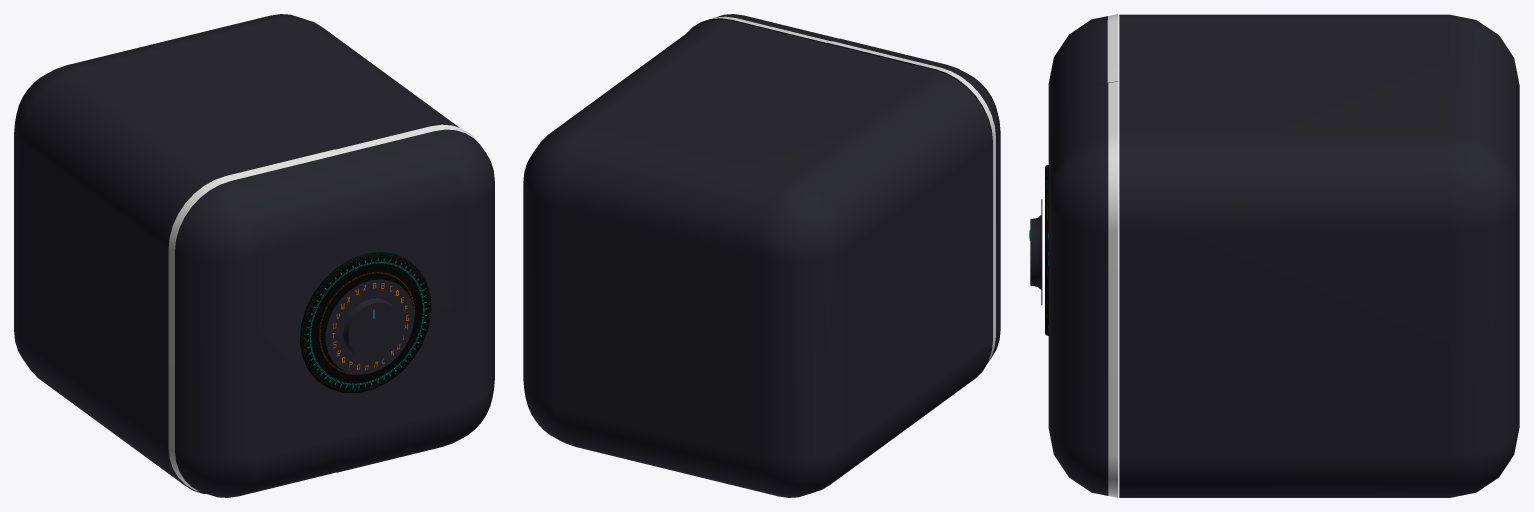
File: SAFE 1.fbx
The picture shows the model from 3 angles, left to right: view 1: azimuth 30°, elevation 25°; view 2: azimuth 150°, elevation 25°; view 3: azimuth 270°, elevation 25°; orthographic projection. The views are drawn at different scales.
Parts seen in each view (by area): view 1: the_safe, door1, door2, door3, pCylinder1, letters, moving_circule; view 2: the_safe, door1, door2; view 3: the_safe, door2, door3, door1, moving_circule, pCylinder1.
Part boxes in pixels (x1=…): the_safe: x1=14, y1=14, x2=459, y2=493; door1: x1=168, y1=149, x2=365, y2=497; door2: x1=336, y1=124, x2=494, y2=315; door3: x1=337, y1=274, x2=494, y2=472; pCylinder1: x1=300, y1=252, x2=431, y2=392; letters: x1=325, y1=279, x2=414, y2=374; moving_circule: x1=343, y1=298, x2=399, y2=357; the_safe: x1=523, y1=19, x2=992, y2=497; door1: x1=827, y1=38, x2=1000, y2=363; door2: x1=687, y1=14, x2=839, y2=43; the_safe: x1=1119, y1=14, x2=1519, y2=497; door2: x1=1048, y1=81, x2=1118, y2=357; door3: x1=1048, y1=307, x2=1118, y2=497; door1: x1=1048, y1=14, x2=1118, y2=142; moving_circule: x1=1030, y1=199, x2=1042, y2=305; pCylinder1: x1=1045, y1=165, x2=1048, y2=335.
Size of the model in its own units: 101 by 95.72 by 119.
5 materials, 2 textured.
